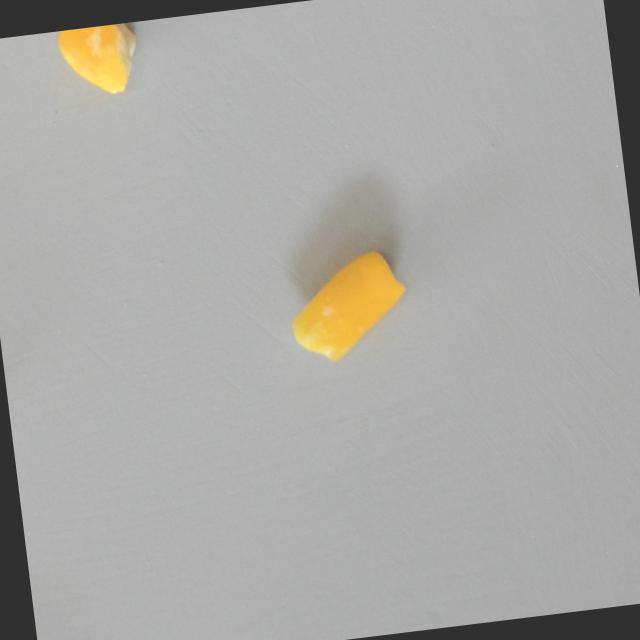estandar: (282, 243, 414, 364)
no_canjicado: (54, 20, 143, 100)
